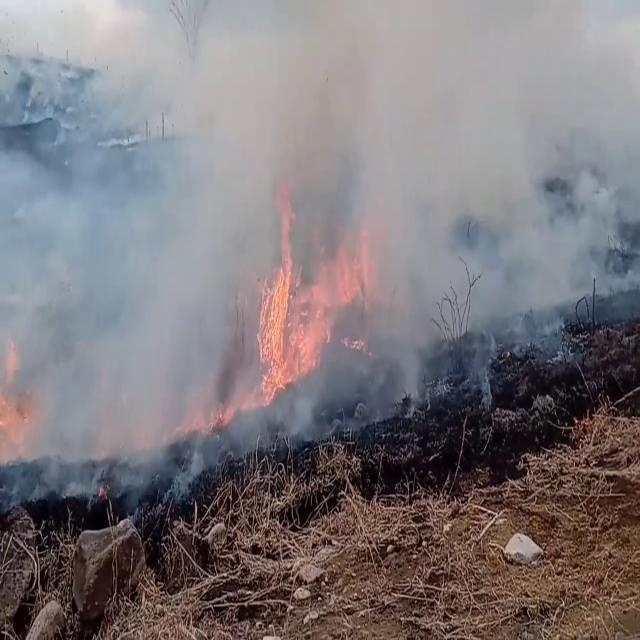Fire: (253, 188, 344, 397)
Smoke: (1, 1, 640, 463)
